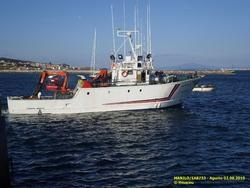otherboat: (5, 17, 205, 116)
